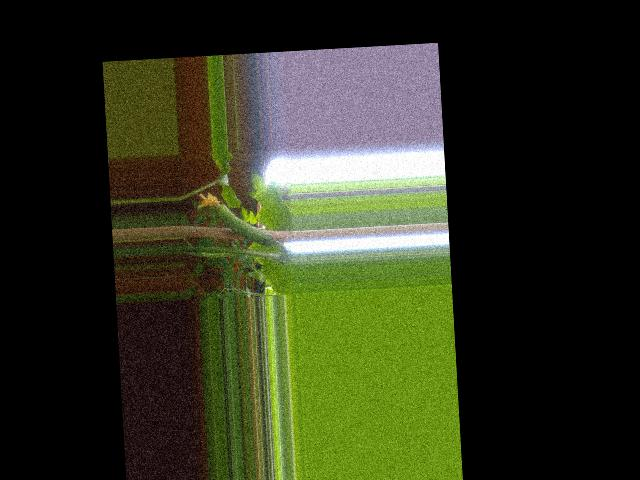cucumber: (196, 188, 273, 249)
